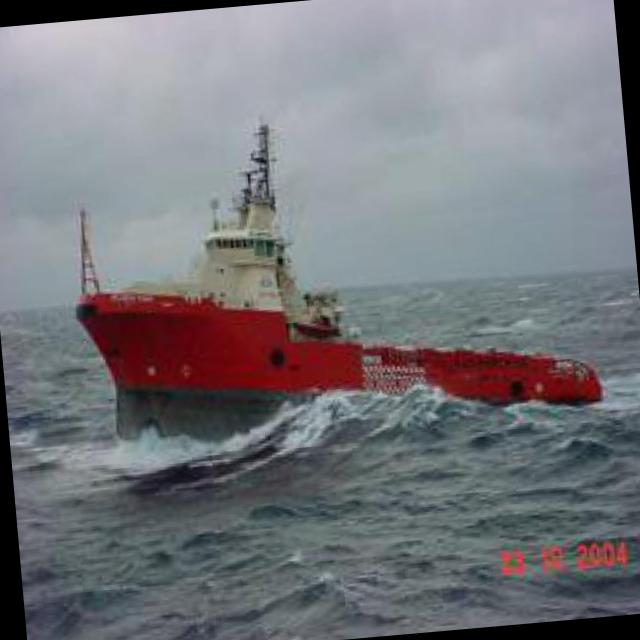boat: (51, 200, 617, 480)
